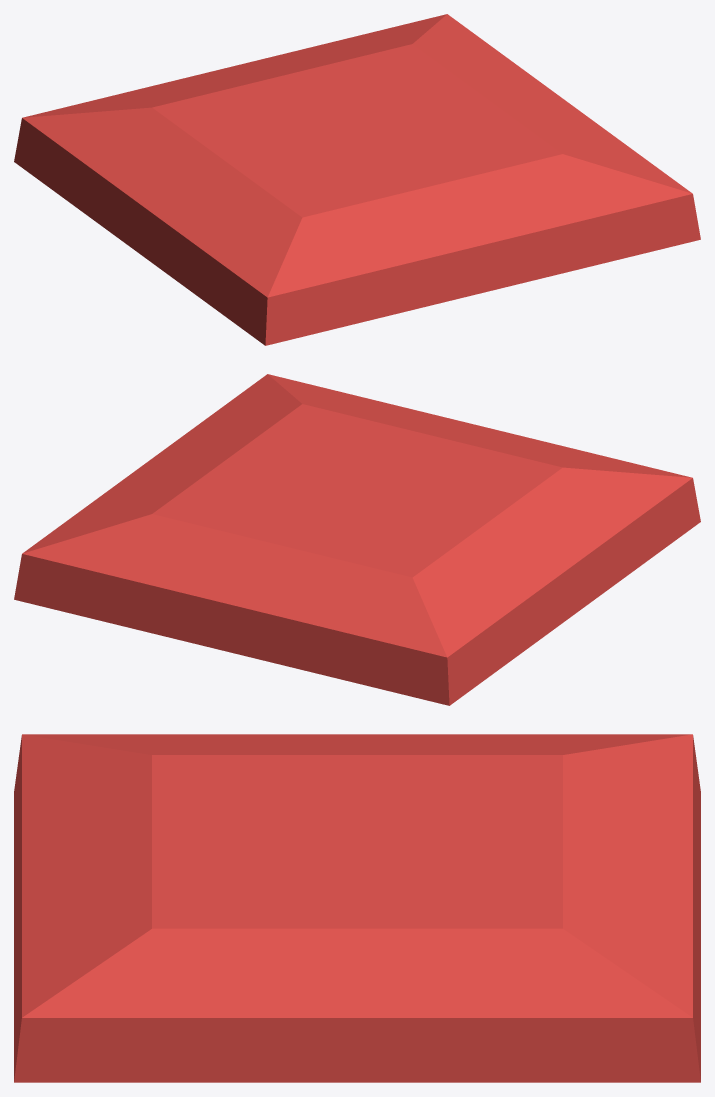
The model's file is clawmachine.glb.
The picture shows the model from 3 angles, top to bottom: view 1: azimuth 30°, elevation 25°; view 2: azimuth 150°, elevation 25°; view 3: azimuth 270°, elevation 25°; orthographic projection. The views are drawn at different scales.
Visible parts, largest first — view 1: MachineUp; view 2: MachineUp; view 3: MachineUp.
Part boxes in pixels (x1,y1,x2,y2): MachineUp: (14, 14, 700, 345); MachineUp: (14, 374, 700, 705); MachineUp: (14, 734, 700, 1082).
Bounding box in the file's own units: 8.06 × 1.24 × 8.06.
